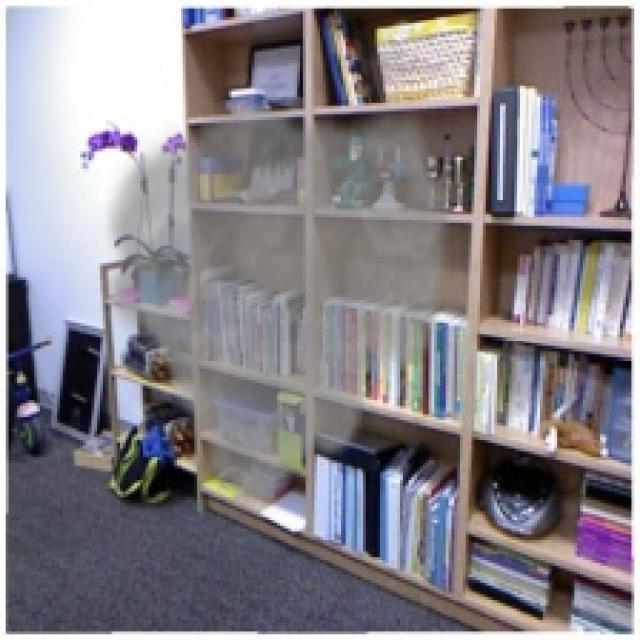smoke: (94, 94, 457, 520)
